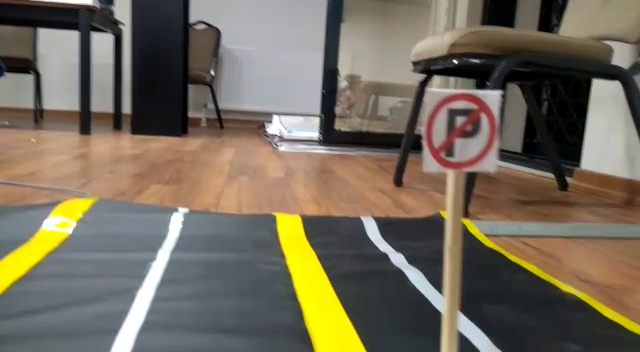park_yapilmaz: (423, 88, 497, 172)
